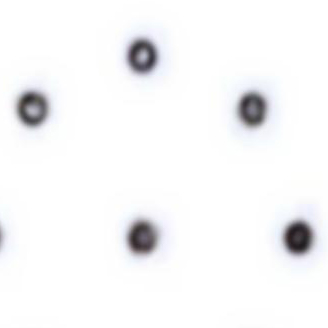cancer: (220, 72, 287, 152), (107, 204, 184, 271), (105, 26, 174, 94), (268, 202, 328, 266), (5, 79, 67, 139)
